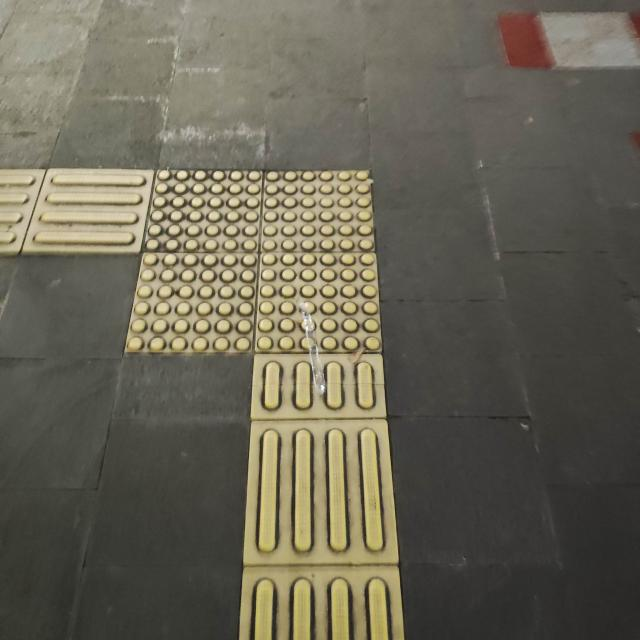kiri: (0, 140, 463, 432)
